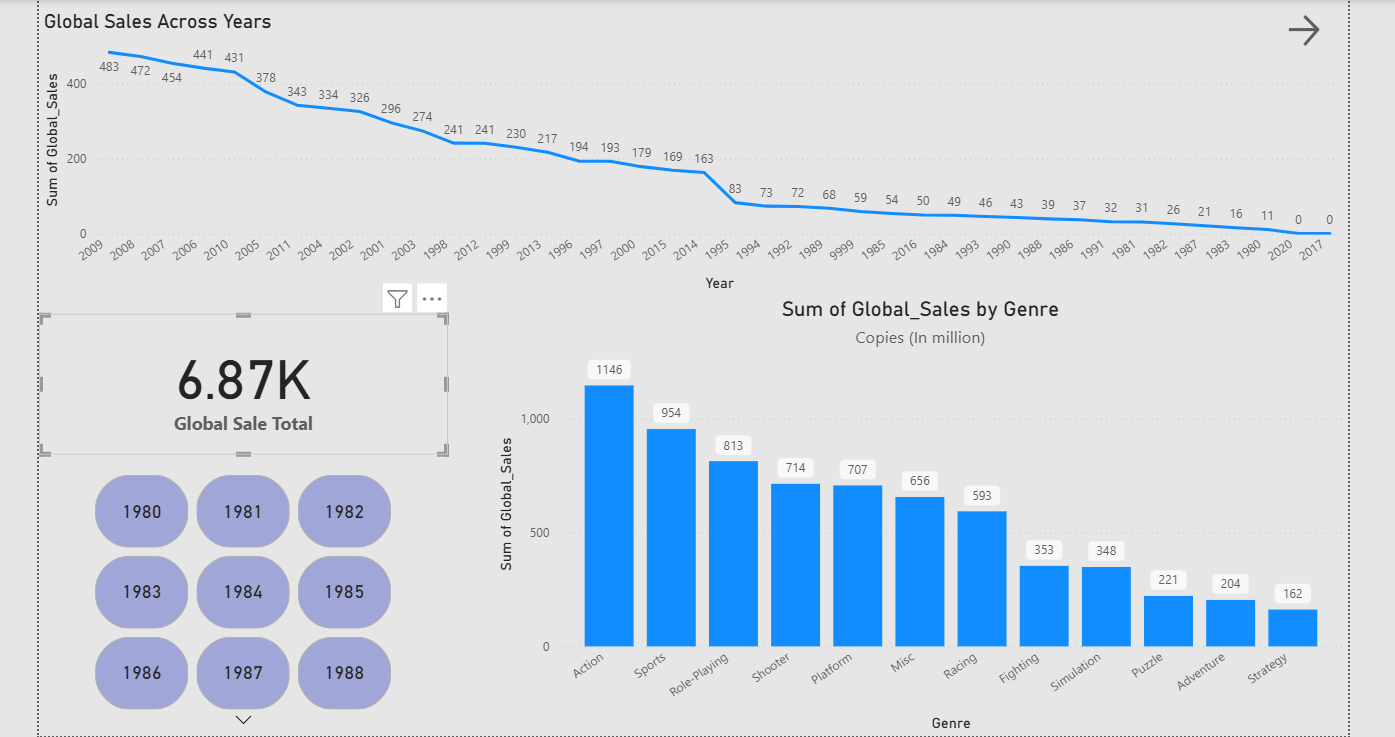

This screenshot's page, from the dashboard's own definition file:
{"tool":"powerbi","page":{"name":"Page 1","canvas":[1280,720],"ordinal":0},"visuals":[{"type":"lineClusteredColumnComboChart","fields":{"Category":["vgsales.Genre"],"Y":["Sum(vgsales.Global_Sales)"]},"box":[443.4,289.7,836.9,429.9],"z":0},{"type":"advancedSlicerVisual","fields":{"Values":["vgsales.Year"]},"box":[50.1,420.7,300.8,299.6],"z":1000},{"type":"lineChart","title":"Global Sales Across Years","fields":{"Y":["Sum(vgsales.Global_Sales)"],"Category":["vgsales.Year"]},"box":[0,9.4,1280.3,280.8],"z":2000},{"type":"card","fields":{"Values":["vgsales.Global Sale Total"]},"box":[0,307.3,400.3,137.5],"z":3000}]}

Visuals, with their boxes on the page's 1280x720 design canvas (x1, y1, x2, y2). These are canvas units, not pixel positions in the 1395x737 screenshot, which may show the page scaled, cropped or inside an application window:
lineClusteredColumnComboChart - vgsales.Genre x Sum(vgsales.Global_Sales): 443, 290, 1280, 720
advancedSlicerVisual - vgsales.Year: 50, 421, 351, 720
"Global Sales Across Years" lineChart: 0, 9, 1280, 290
card - vgsales.Global Sale Total: 0, 307, 400, 445
